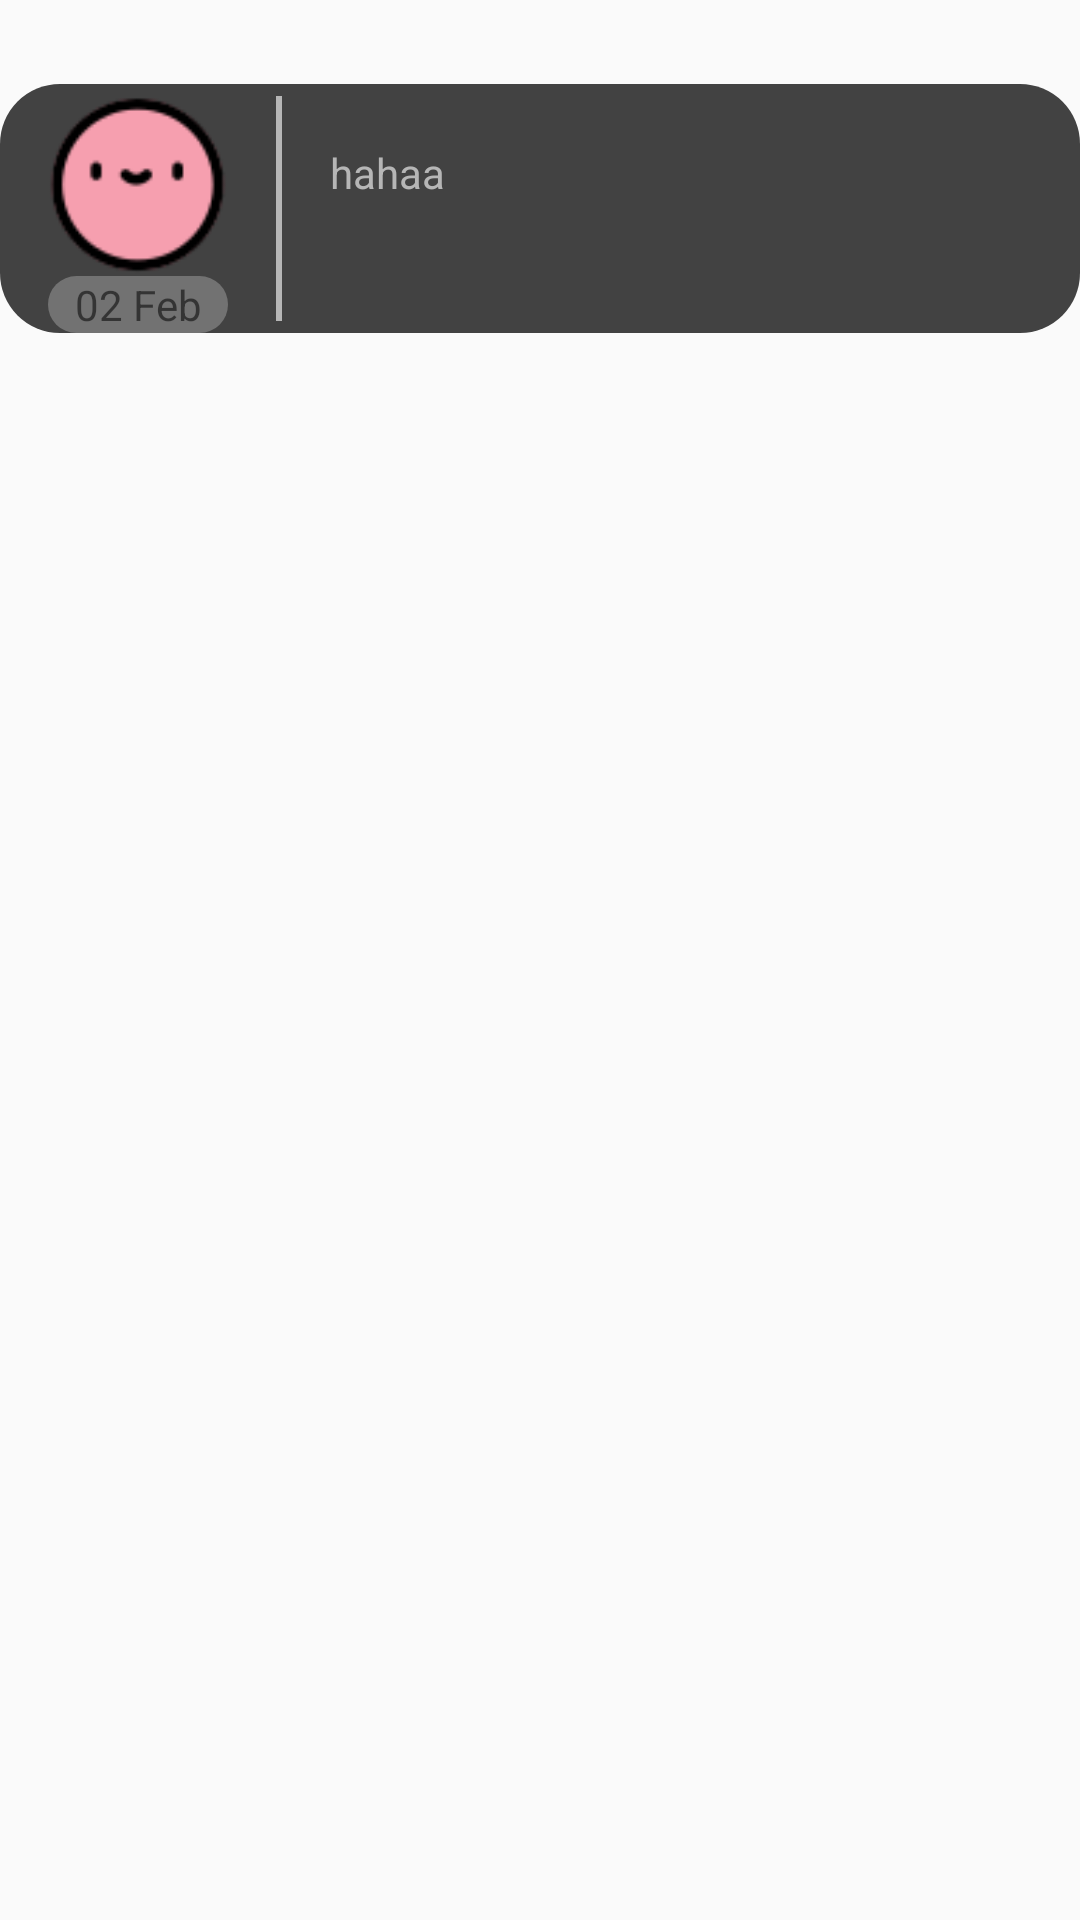

Named icons in this screenshot (1080×1920) and their bounding boxes, (x1, y1, x2, y2):
happy: (52, 98, 223, 271)
